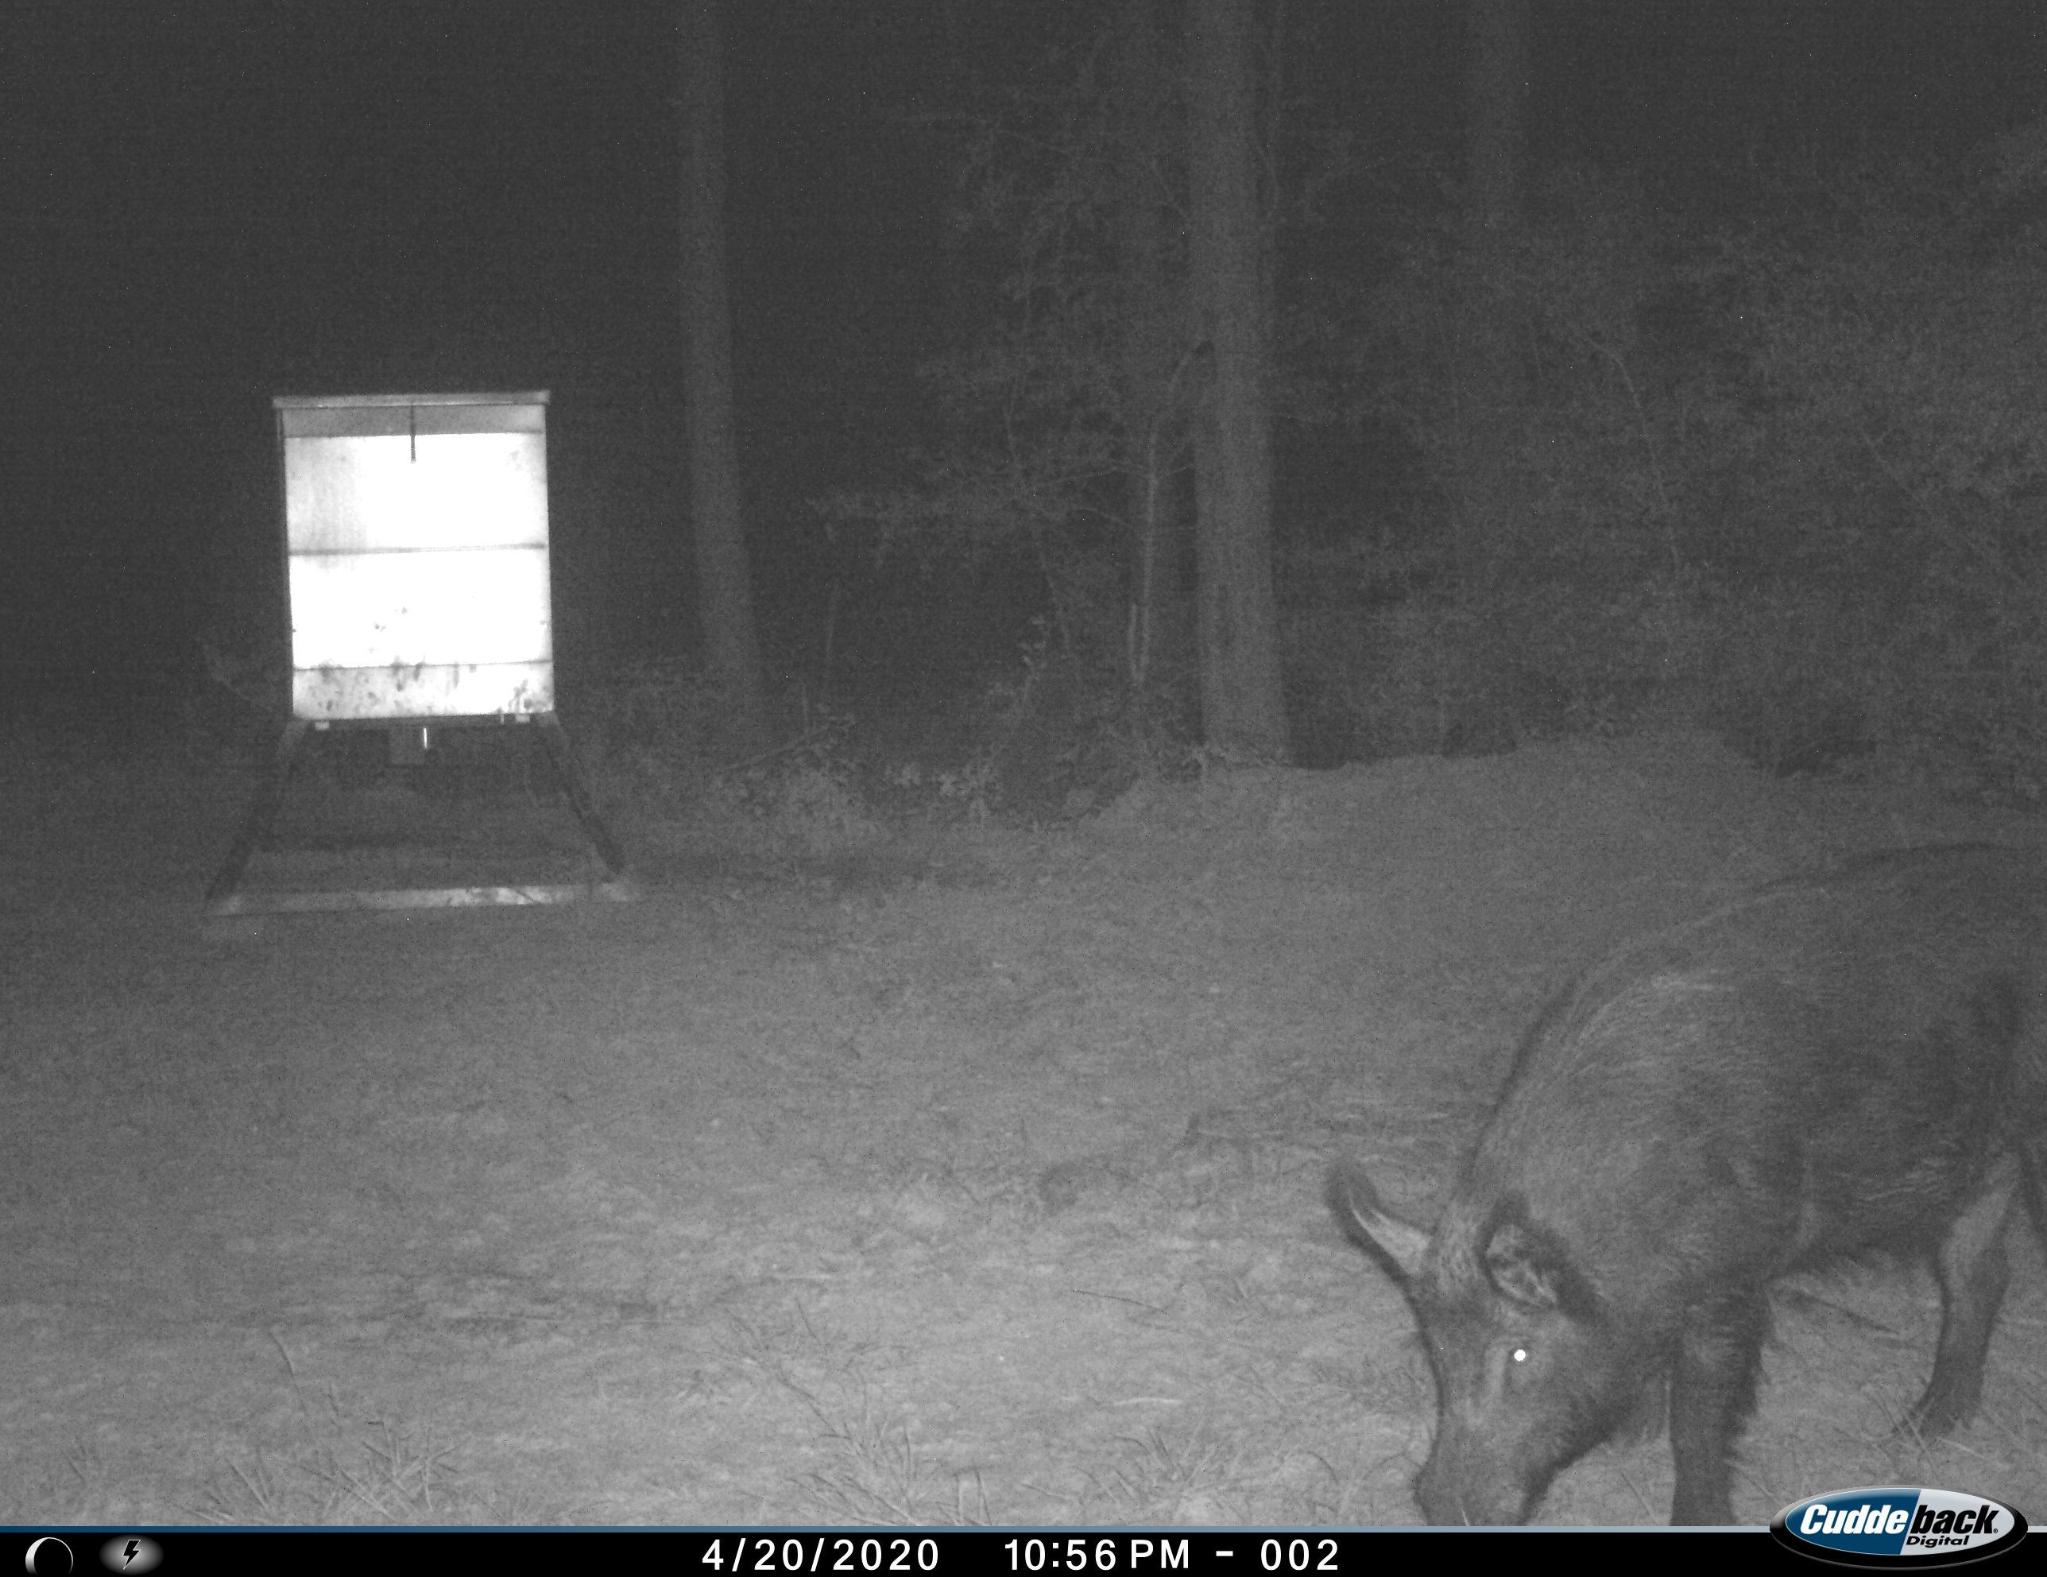Hog: (1301, 813, 2047, 1524)
